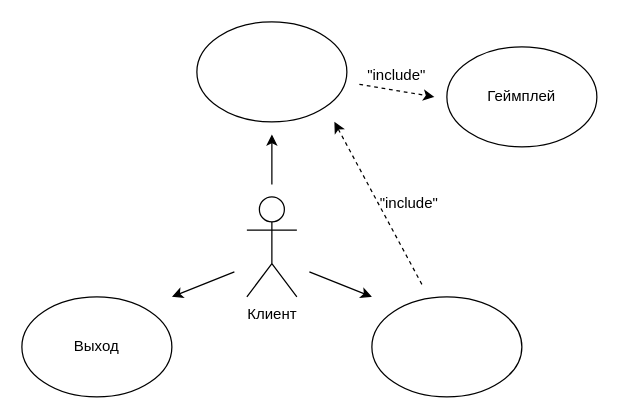
Some shapes in this 619 by 419 pixel diagram are drawn without their labels. Here are the shapes that lost their labels. From the top down, the centre of each, then its label:
At point 271,71: "Выбор уровня".
At point 446,346: "Вход/Регистрация".
